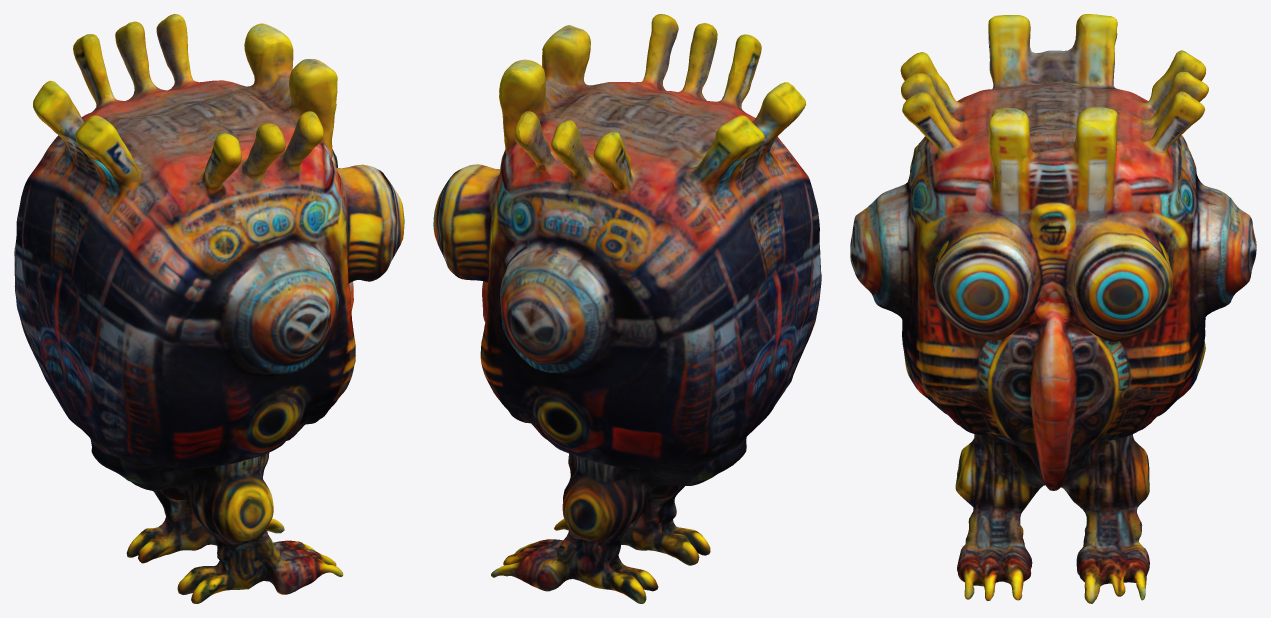
The model's file is funRobot1.glb.
The picture shows the model from 3 angles, left to right: view 1: azimuth 30°, elevation 25°; view 2: azimuth 150°, elevation 25°; view 3: azimuth 270°, elevation 25°; orthographic projection. The views are drawn at different scales.
Parts seen in each view (by area): view 1: geometry_0; view 2: geometry_0; view 3: geometry_0.
Boxes of the visible parts, x1=… form: geometry_0: x1=14, y1=14, x2=404, y2=603; geometry_0: x1=433, y1=14, x2=821, y2=603; geometry_0: x1=850, y1=14, x2=1256, y2=603.
Size of the model in its own units: 0.5364 by 0.8496 by 0.639.
1 material, 1 textured.
